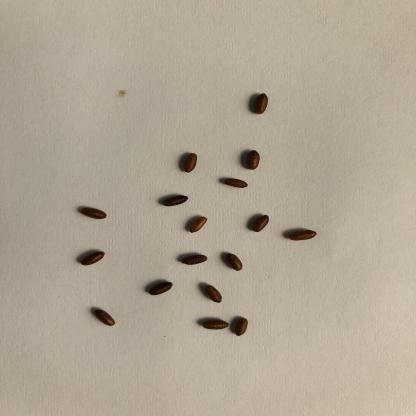pupae: (196, 279, 230, 305), (71, 203, 111, 224), (178, 213, 214, 236), (244, 90, 274, 117), (138, 278, 178, 298), (243, 210, 274, 235), (280, 225, 318, 245), (237, 147, 265, 173), (86, 308, 122, 328), (175, 150, 201, 177), (157, 191, 193, 210), (77, 247, 109, 267), (175, 251, 212, 268), (219, 250, 247, 272), (193, 315, 230, 331), (230, 314, 254, 336), (216, 176, 251, 190)
